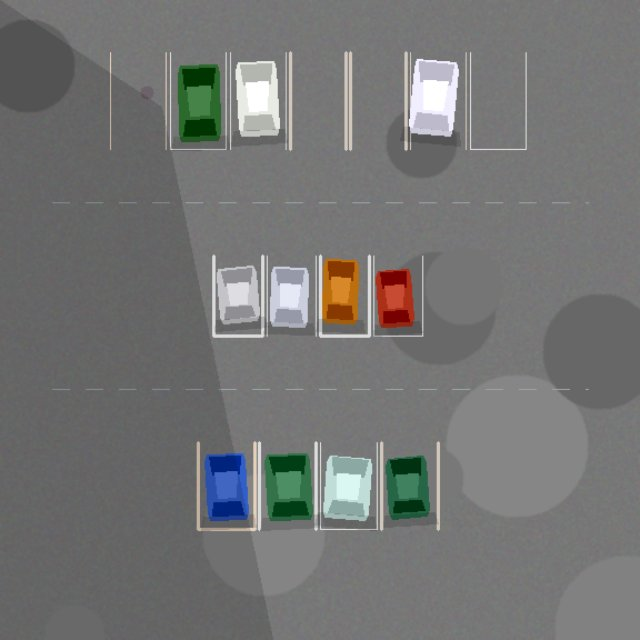space-empty: (110, 52, 166, 149), (290, 52, 346, 149), (350, 52, 406, 149), (470, 52, 526, 149)
space-occupied: (170, 52, 226, 149), (230, 52, 286, 149), (410, 52, 466, 149), (259, 442, 316, 529), (320, 442, 377, 529), (381, 442, 438, 529), (198, 442, 254, 529), (213, 256, 262, 336), (267, 256, 316, 336), (320, 256, 369, 336), (373, 256, 422, 336)
